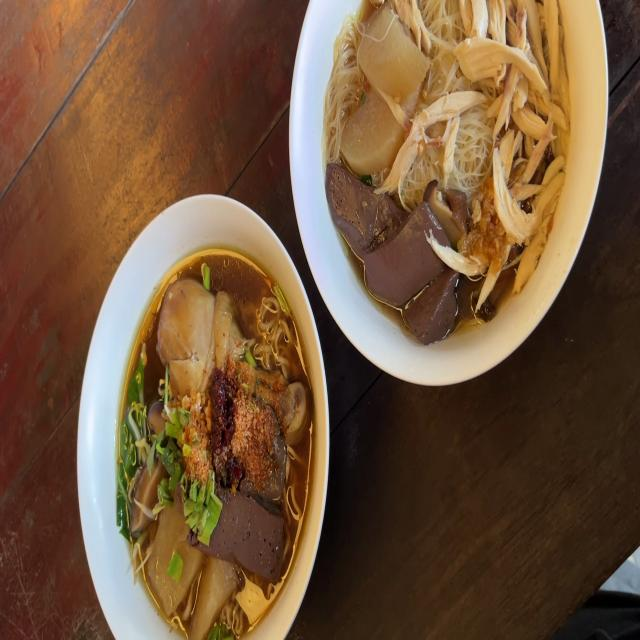noodle: (324, 0, 564, 300), (125, 274, 313, 614)
